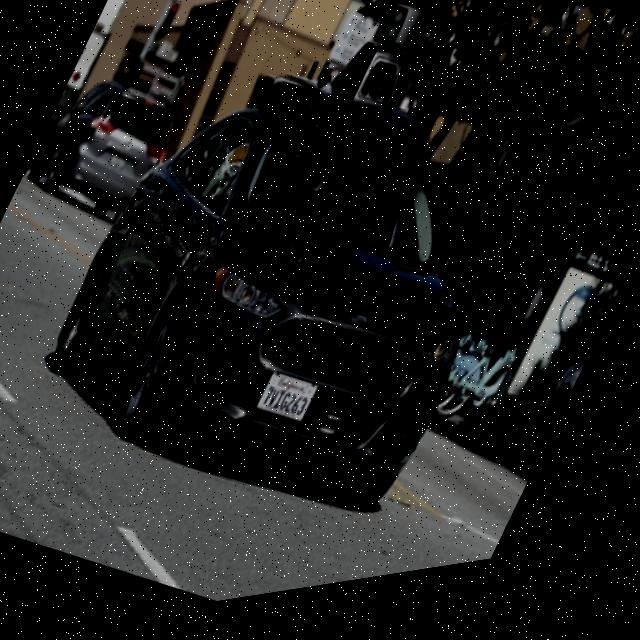license_plate: (258, 368, 328, 442)
